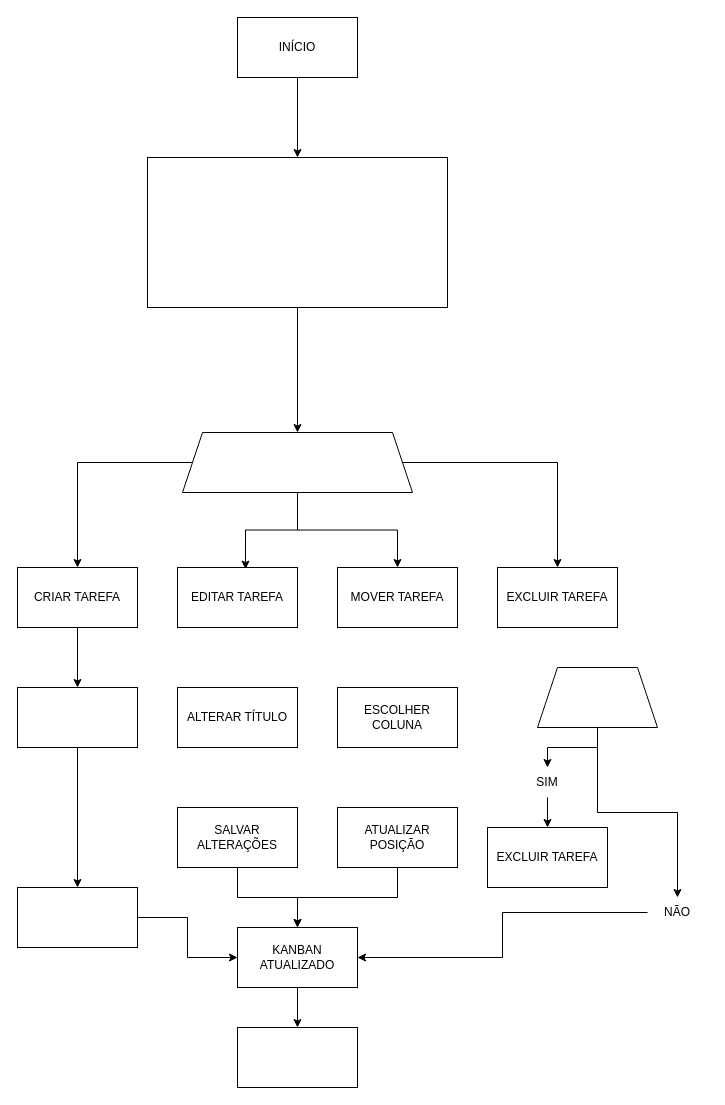
Image size: 725x1105. Some labels were removed from this diagram. Here are the shapes that lost their labels. From the top down, the centre of each, then its label:
At pixel 297 232: "VISUALIZAR KANBAN A Fazer Em Progresso Concluídas".
At pixel 297 462: "O QUE DESEJA FAZER?".
At pixel 77 717: "INFORMAR TÍTULO".
At pixel 597 697: "CONFIRMAR EXCLUSÃO".
At pixel 77 917: "SALVAR TAREFA".
At pixel 297 1057: "FIM".
